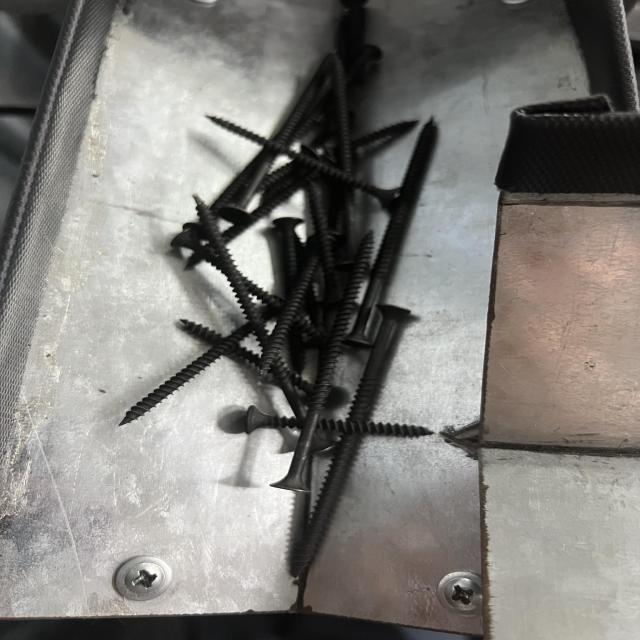screw: (195, 195, 312, 433)
